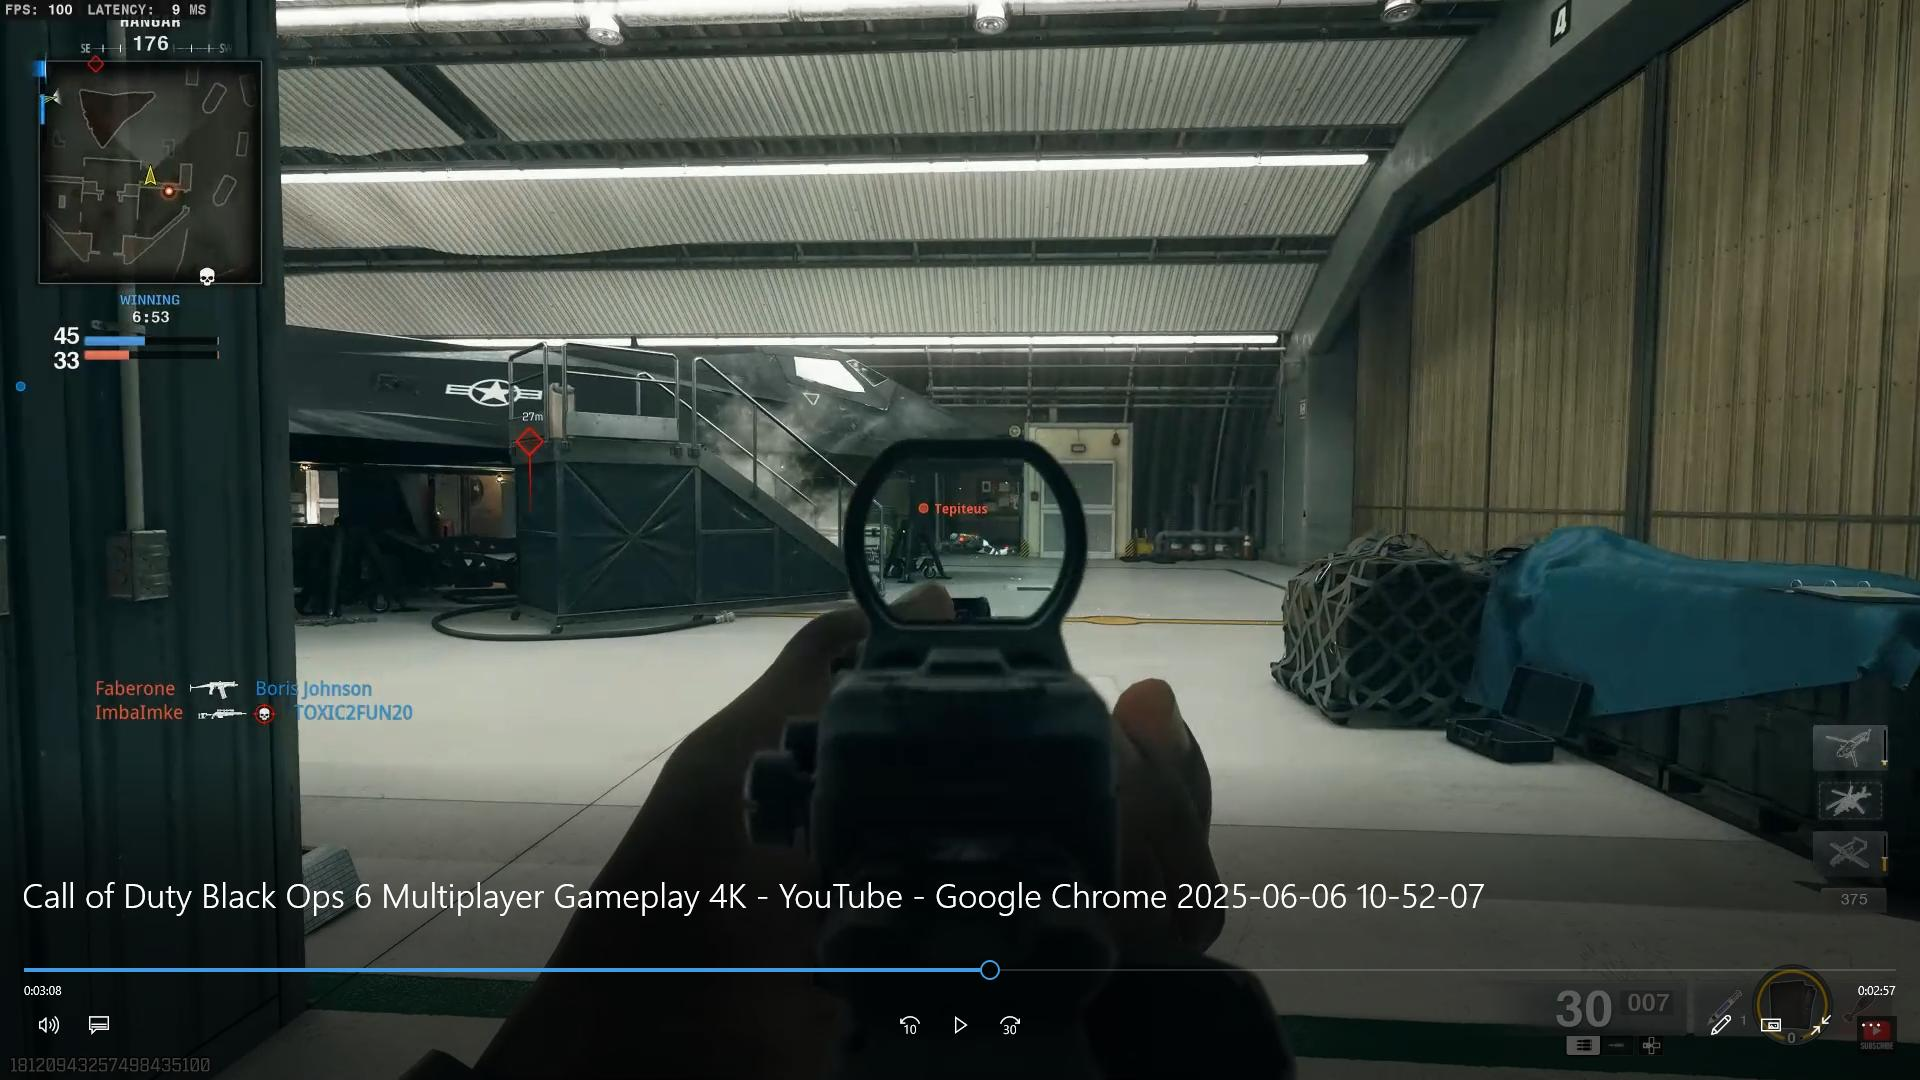Enemy: (922, 485, 1047, 580)
